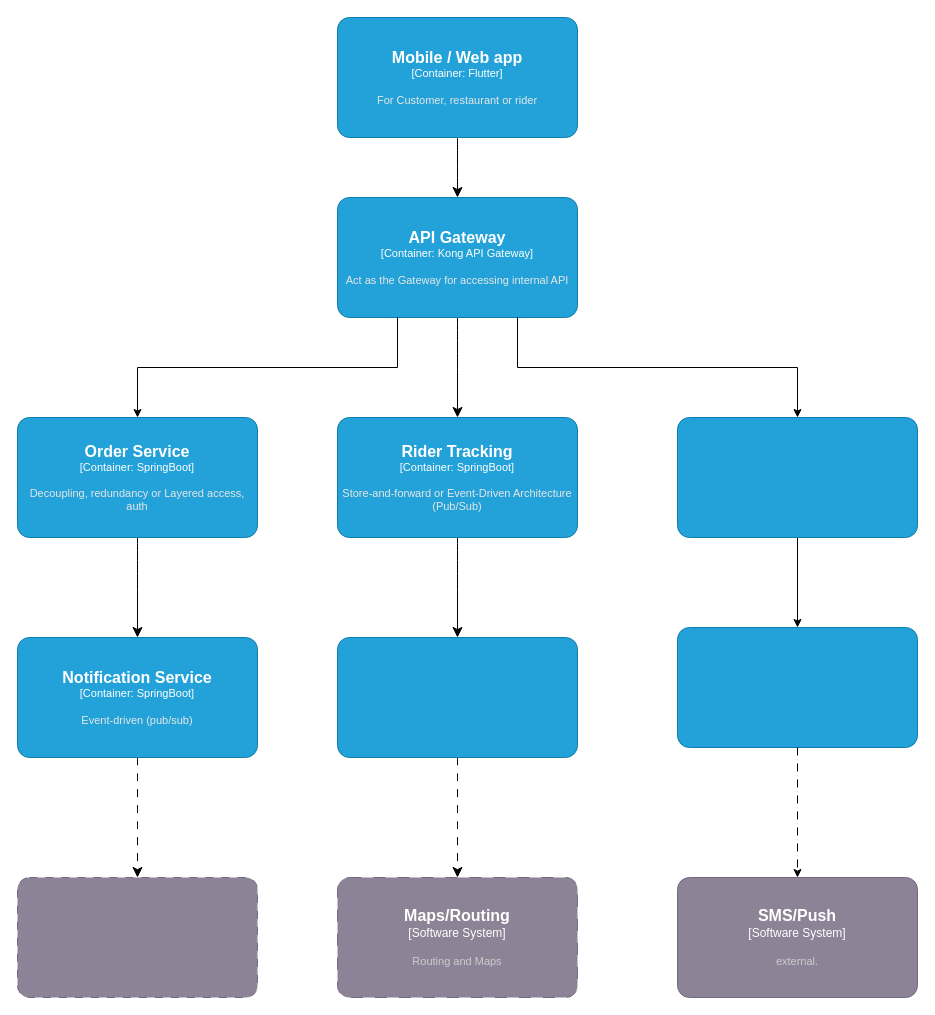
Some shapes in this 935 by 1015 pixel diagram are drawn without their labels. Each missing label, with the box of its shape:
Analytics Service [Container: SpringBoot] Data-flow pipeline + queue: (336, 636, 578, 758)
Catalog Service [Container: ] Layered, loose coupling: (676, 416, 918, 538)
Order DB [Container: ] Layered access, auth or Decoupling, redundancy: (676, 626, 918, 748)
Payment gateway [Software System] External: (16, 876, 258, 998)
